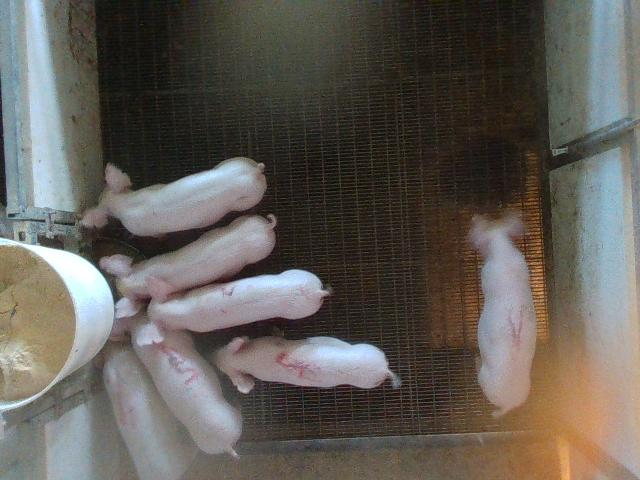pig-3: (131, 326, 241, 456)
pig-4: (104, 342, 198, 478)
pig-5: (212, 336, 401, 393)
